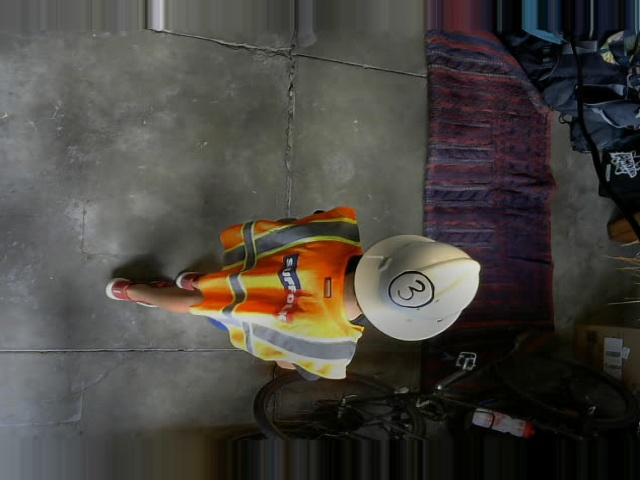three: (387, 270, 435, 307)
